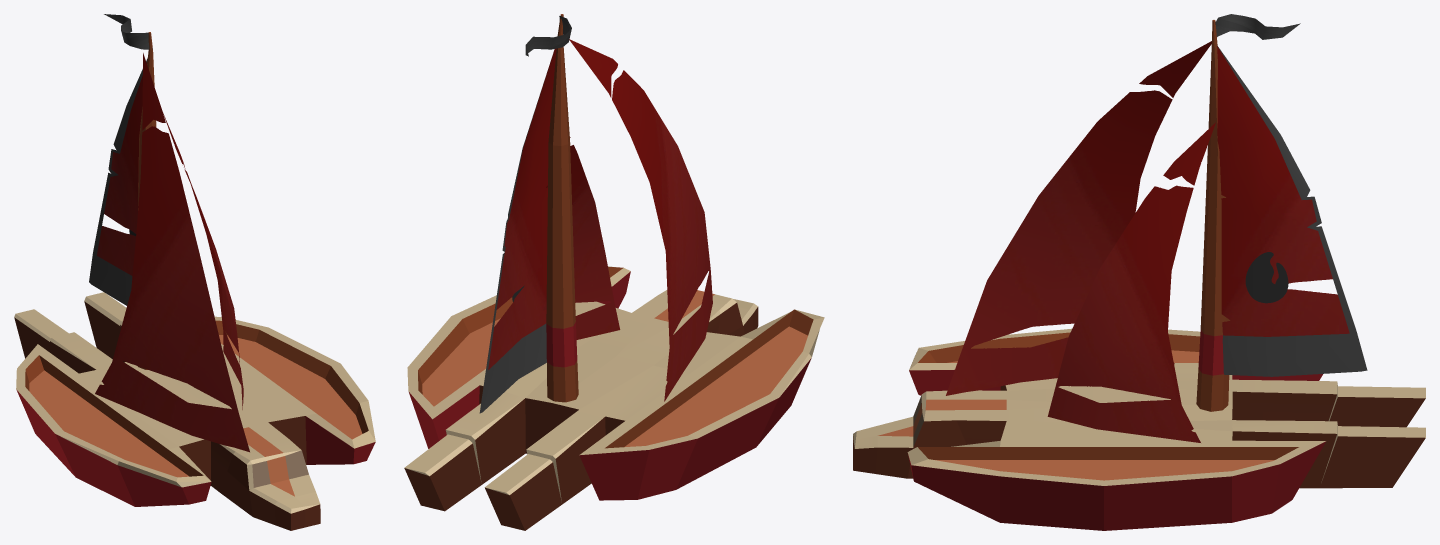
The model's file is SailTypeB.fbx.
3 renders of one model, left to right at view 1: azimuth 30°, elevation 25°; view 2: azimuth 150°, elevation 25°; view 3: azimuth 270°, elevation 25°, orthographic. The views are drawn at different scales.
Visible parts, largest first — view 1: Red_Color_01, Red_Color_Cloth_02; view 2: Red_Color_01, Red_Color_Cloth_02; view 3: Red_Color_Cloth_02, Red_Color_01.
Boxes of the visible parts, bbox=[...] form: Red_Color_01: bbox=[14, 32, 375, 530]; Red_Color_Cloth_02: bbox=[89, 14, 249, 452]; Red_Color_01: bbox=[404, 14, 824, 530]; Red_Color_Cloth_02: bbox=[479, 16, 712, 413]; Red_Color_Cloth_02: bbox=[946, 14, 1367, 442]; Red_Color_01: bbox=[853, 20, 1425, 530].
Size of the model in its own units: 15.42 by 19.7 by 23.13.
